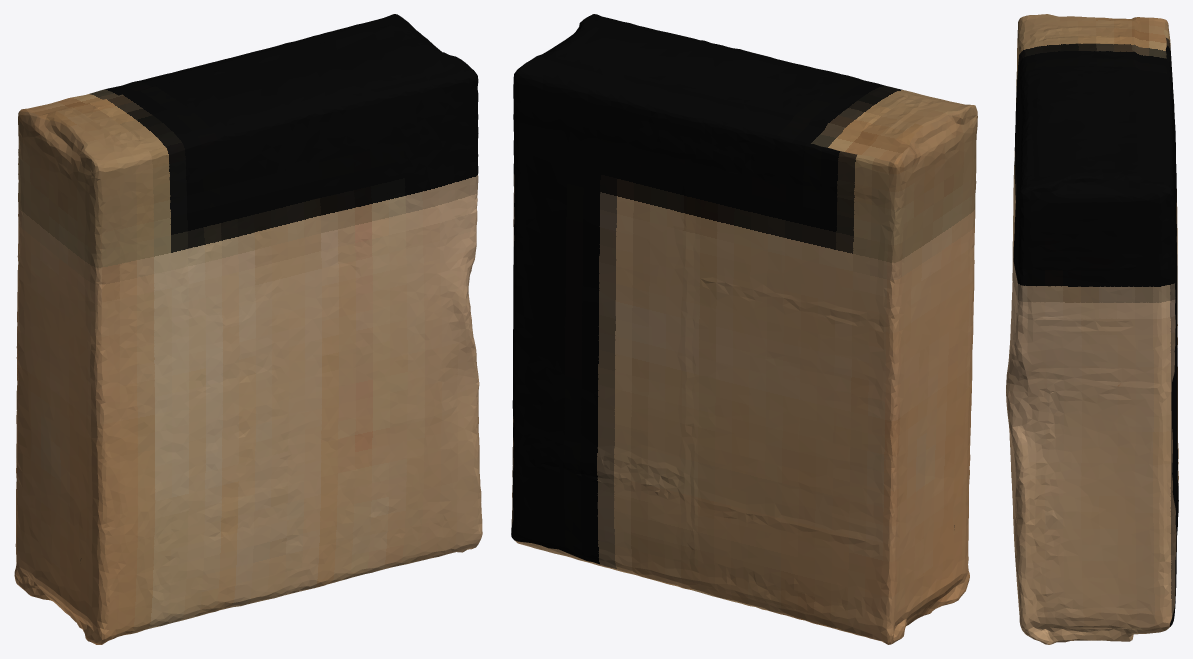
3 renders of one model, left to right at view 1: azimuth 30°, elevation 25°; view 2: azimuth 150°, elevation 25°; view 3: azimuth 270°, elevation 25°, orthographic. The views are drawn at different scales.
Size of the model in its own units: 0.0732 by 0.0891 by 0.0301.
